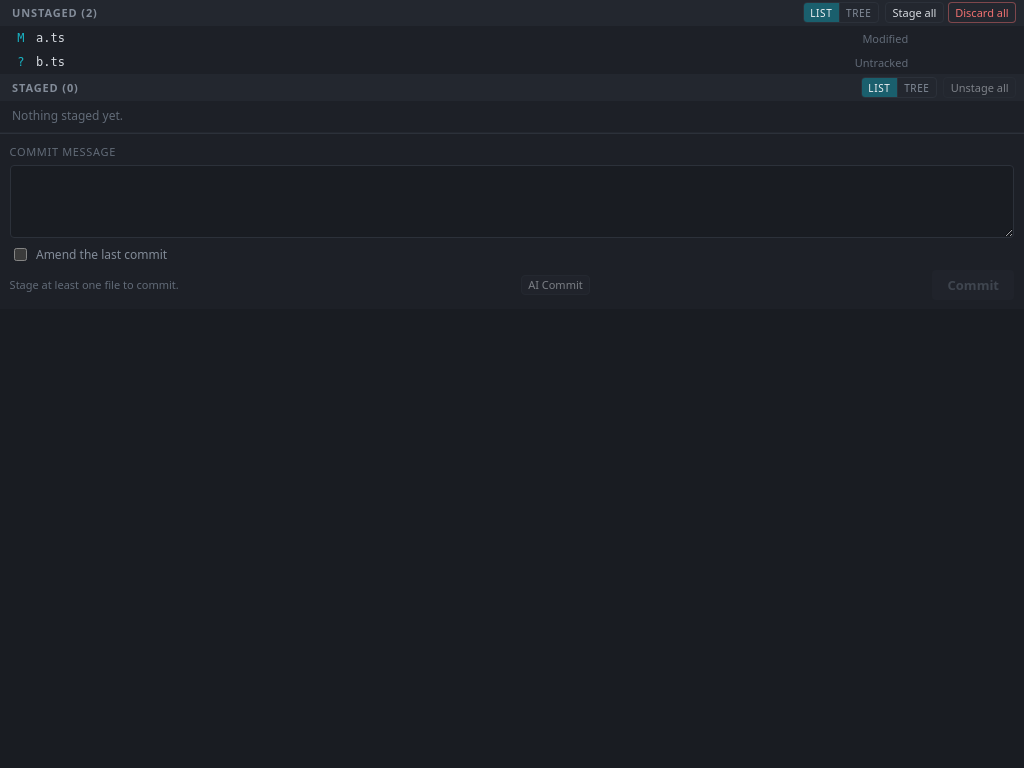
Test: discard confirmation › names exactly which paths and how many are affected
Click the button "Discard all" at (982, 12), box [948, 2, 1016, 23]
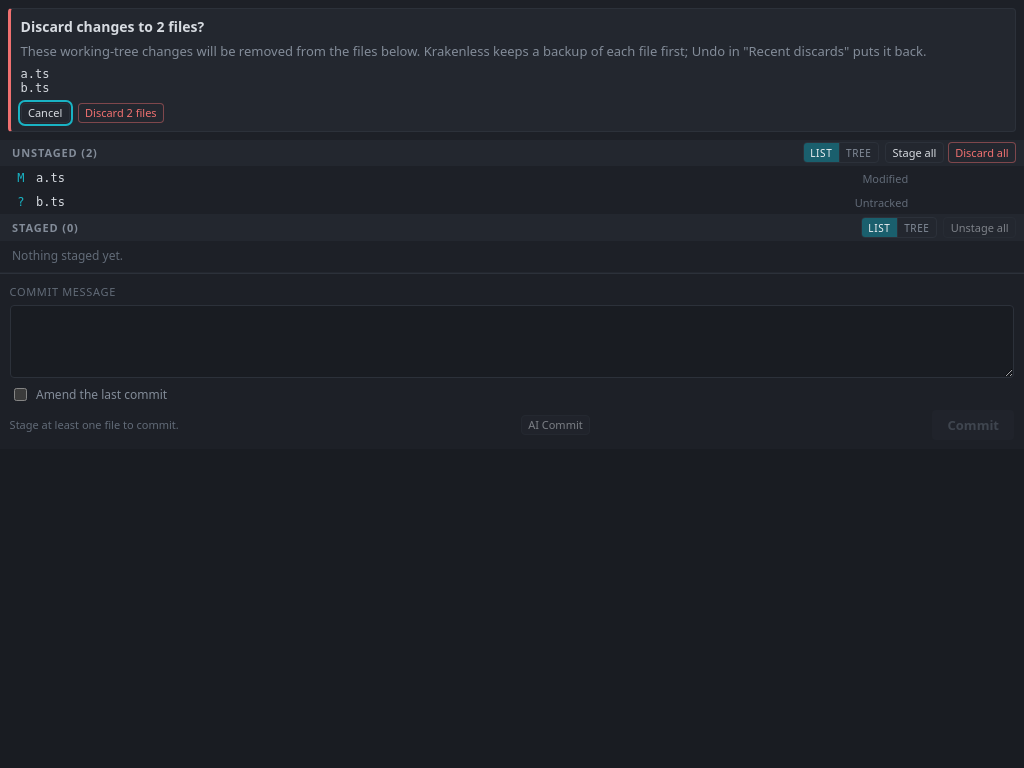
Check: the dialog named "Confirm discard" shows "Discard changes to 2 files?", box [21, 17, 204, 36]
Check: the list item "a.ts" is shown, box [21, 67, 50, 81]
Check: the list item "b.ts" is shown, box [21, 81, 50, 95]
